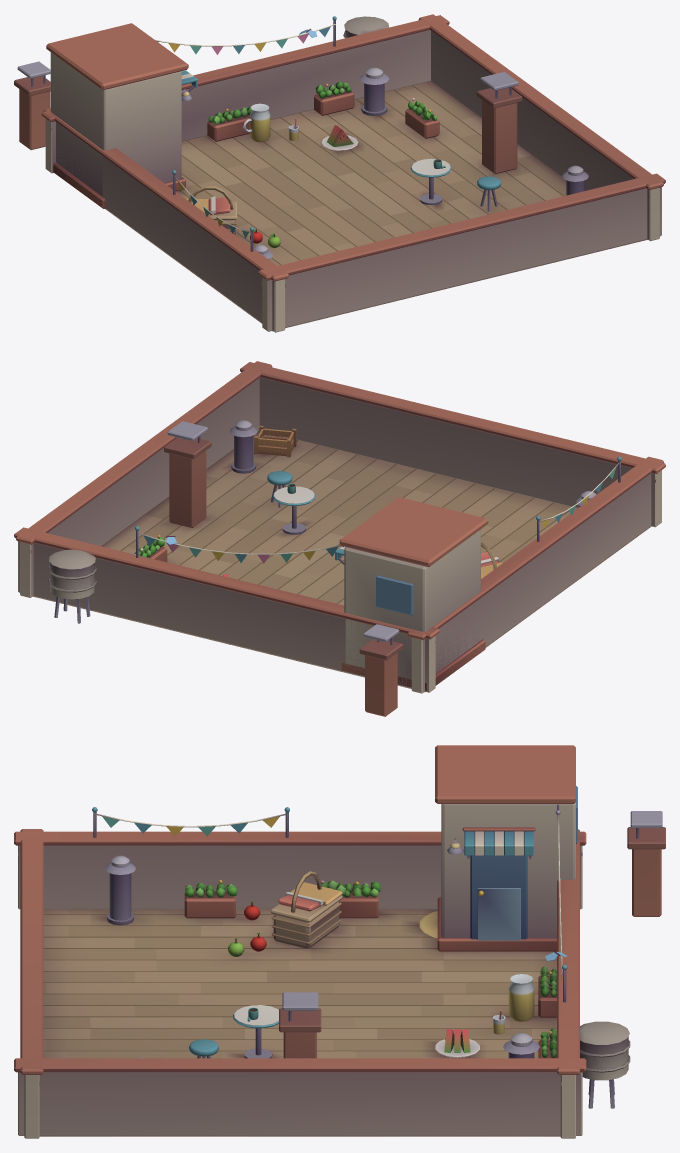
The picture shows the model from 3 angles, top to bottom: view 1: azimuth 30°, elevation 25°; view 2: azimuth 150°, elevation 25°; view 3: azimuth 270°, elevation 25°; orthographic projection. The views are drawn at different scales.
Parts seen in each view (by area): view 1: room, back, table, props; view 2: room, back, table; view 3: room, table, back, props.
Part boxes in pixels (<box>): room: <box>41,15,522,332</box>; back: <box>14,14,665,331</box>; table: <box>105,81,647,331</box>; props: <box>186,28,358,248</box>; room: <box>14,421,663,693</box>; back: <box>16,361,665,716</box>; table: <box>33,431,651,692</box>; room: <box>14,745,630,1138</box>; table: <box>39,909,560,1136</box>; back: <box>14,811,665,1138</box>; props: <box>228,871,567,1057</box>.
Bounding box in the file's own units: 8.92 × 2.7 × 10.16.
